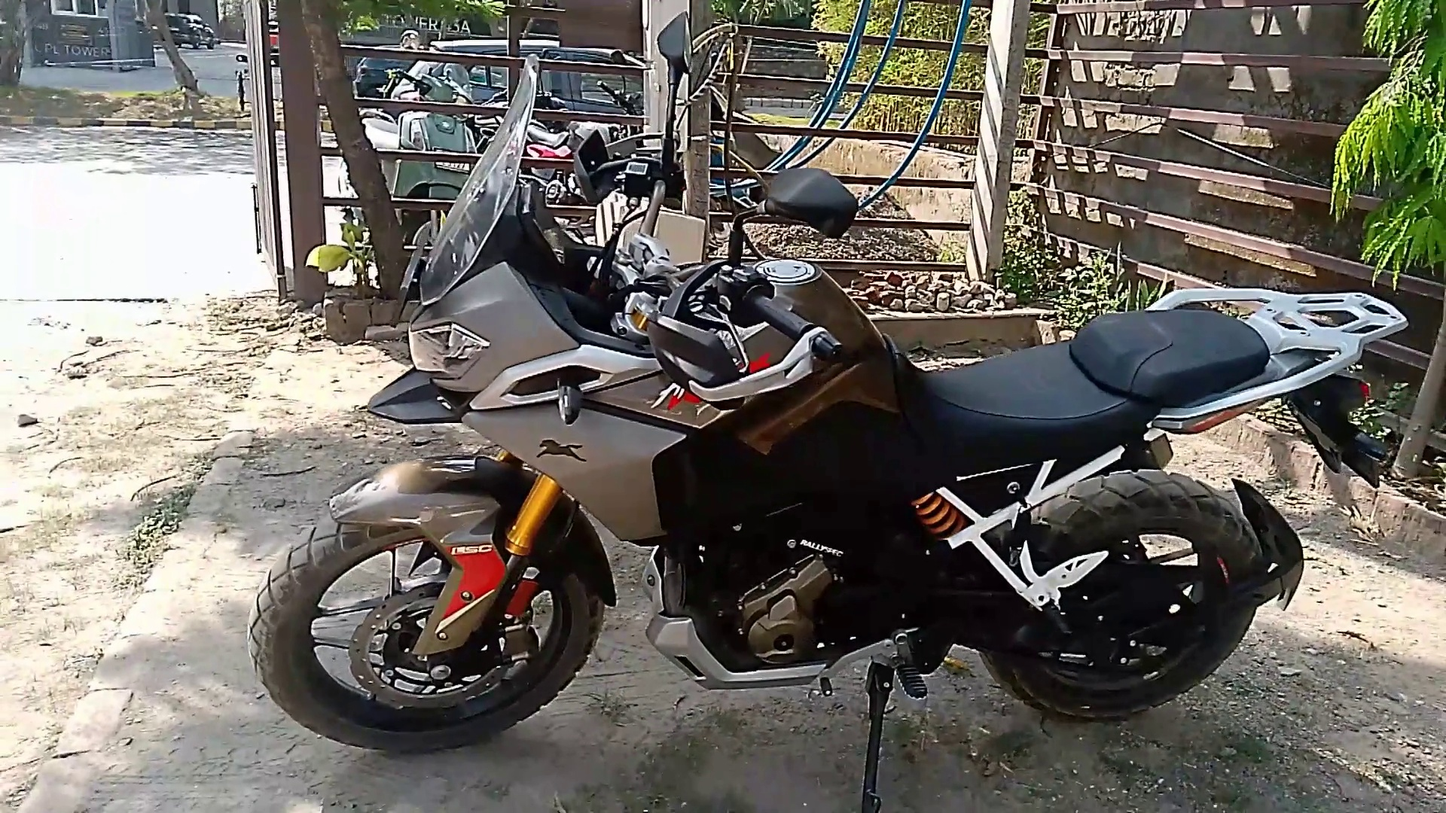engine-casing-left: (739, 557, 831, 670)
side-stand: (861, 663, 894, 812)
